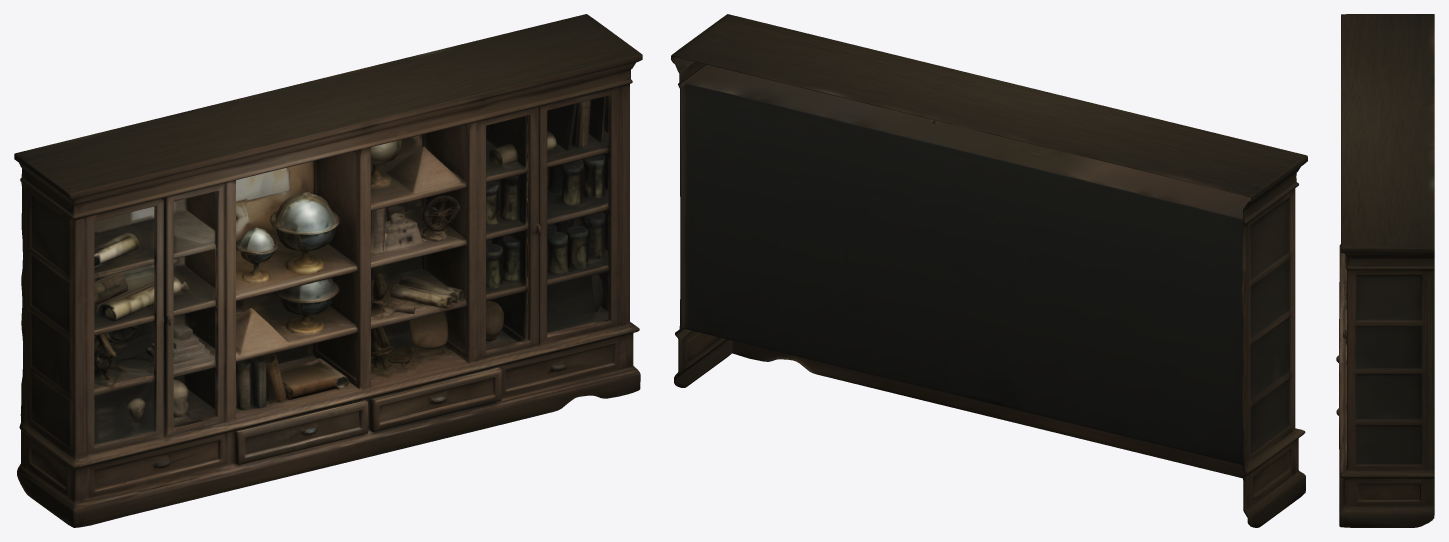
Rendered from Tutrungbaydodungdiali.fbx.
The picture shows the model from 3 angles, left to right: view 1: azimuth 30°, elevation 25°; view 2: azimuth 150°, elevation 25°; view 3: azimuth 270°, elevation 25°; orthographic projection. The views are drawn at different scales.
Visible parts, largest first — view 1: node_0; view 2: node_0; view 3: node_0.
Part boxes in pixels (left/top/right/bottom): node_0: left=14, top=14, right=642, bottom=527; node_0: left=671, top=14, right=1307, bottom=527; node_0: left=1336, top=14, right=1434, bottom=527.
Bounding box in the file's own units: 104 × 57.98 × 18.42.
1 material, 1 textured.
